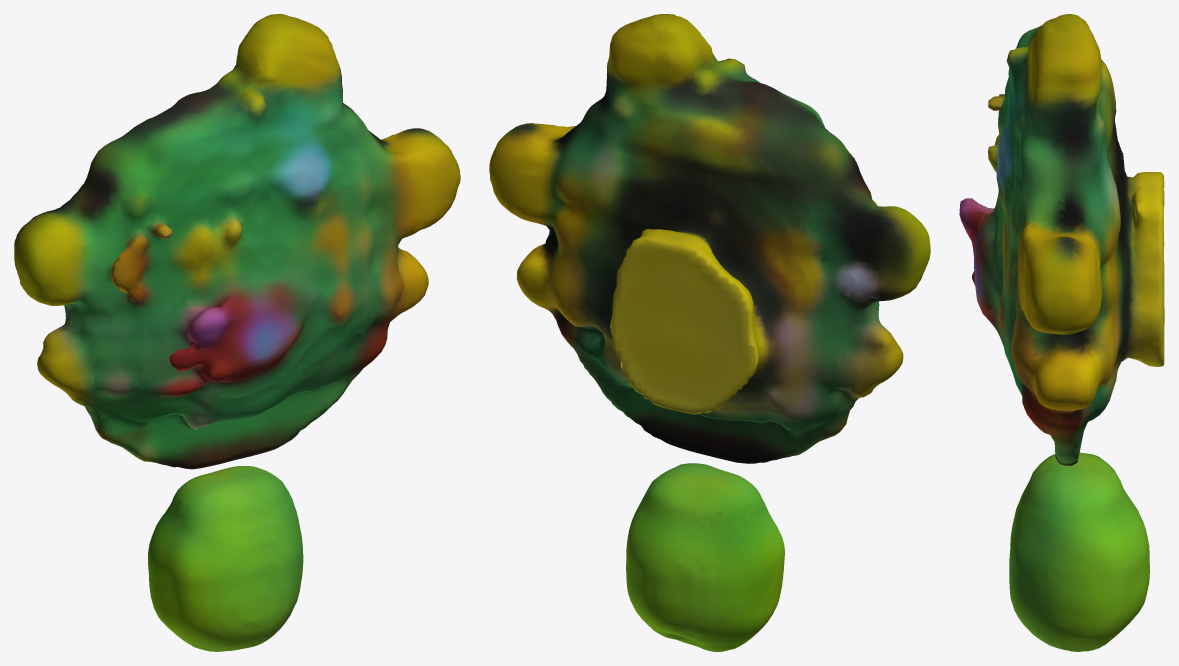
The model's file is turtle.glb.
3 views of the same model, side by side, from view 1: azimuth 30°, elevation 25°; view 2: azimuth 150°, elevation 25°; view 3: azimuth 270°, elevation 25° (orthographic). The views are drawn at different scales.
Size of the model in its own units: 0.7315 by 0.9999 by 0.289.
